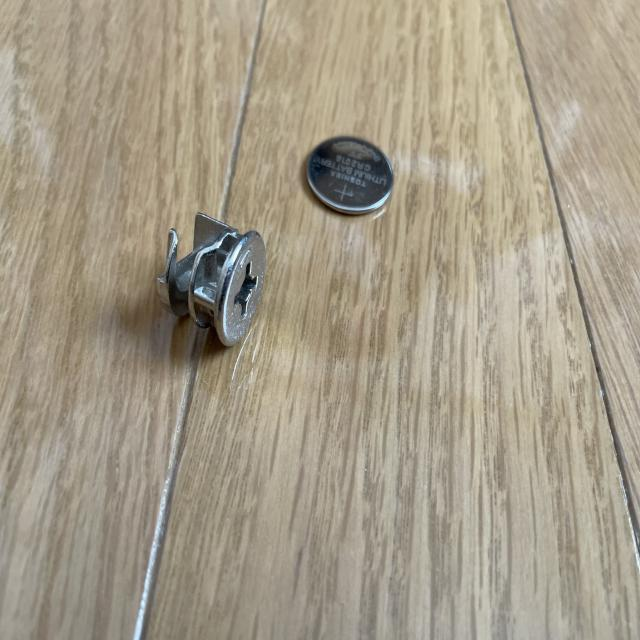COIN: (306, 136, 396, 217)
